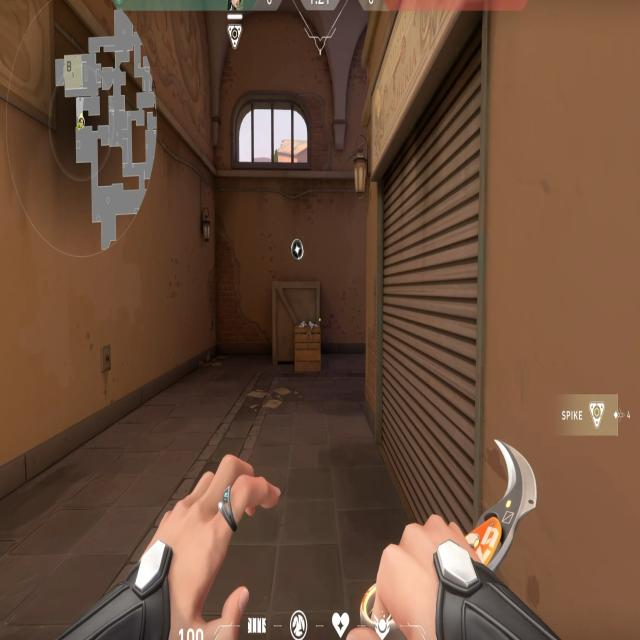B_Main_Wallbang: (263, 228, 335, 379)
Throwables: (229, 88, 319, 185)
